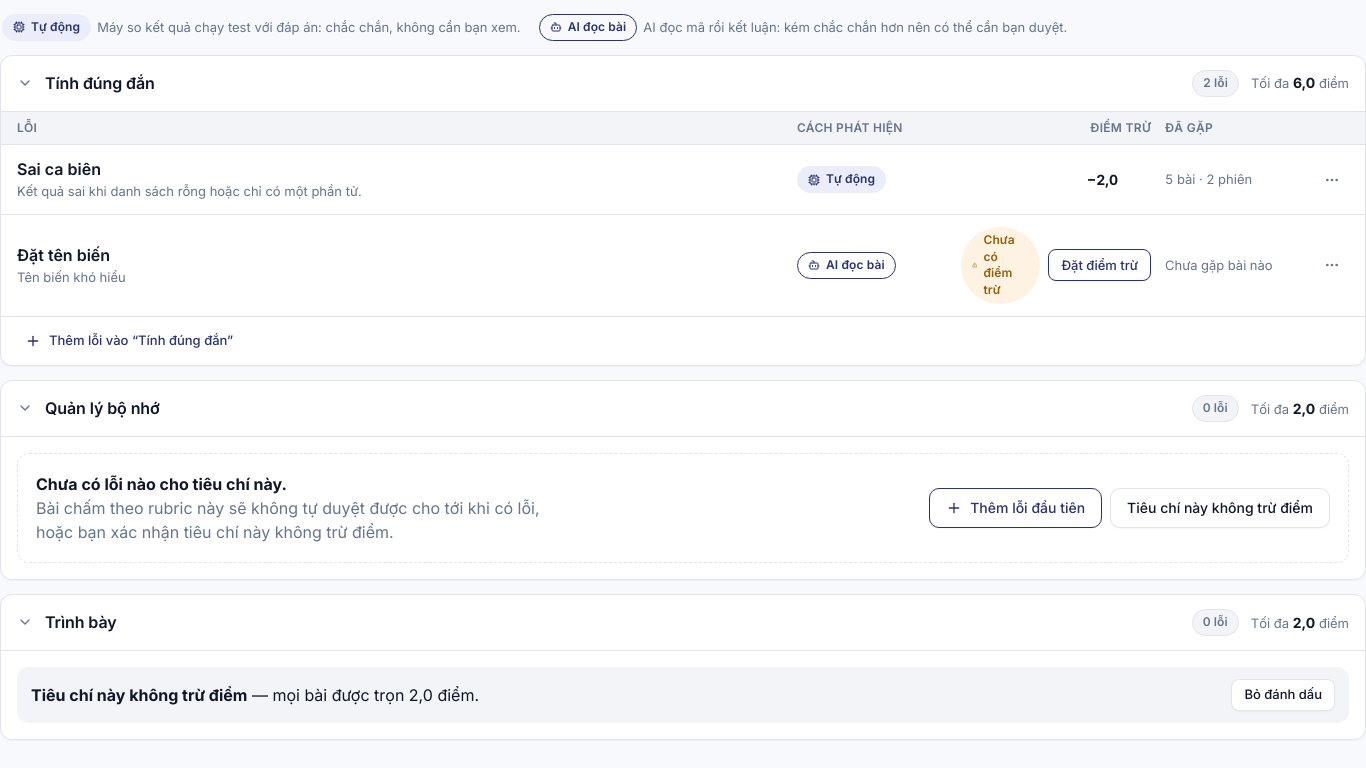
Scenario: ErrorsTab — nhóm theo tiêu chí (T-RBE-UI-2) › gập nhóm ẩn các dòng lỗi
Click the button "Tính đúng đắn 2 lỗi Tối đa 6,0 điểm" at (100, 83), box top-left (17, 70), bottom-right (1349, 97)
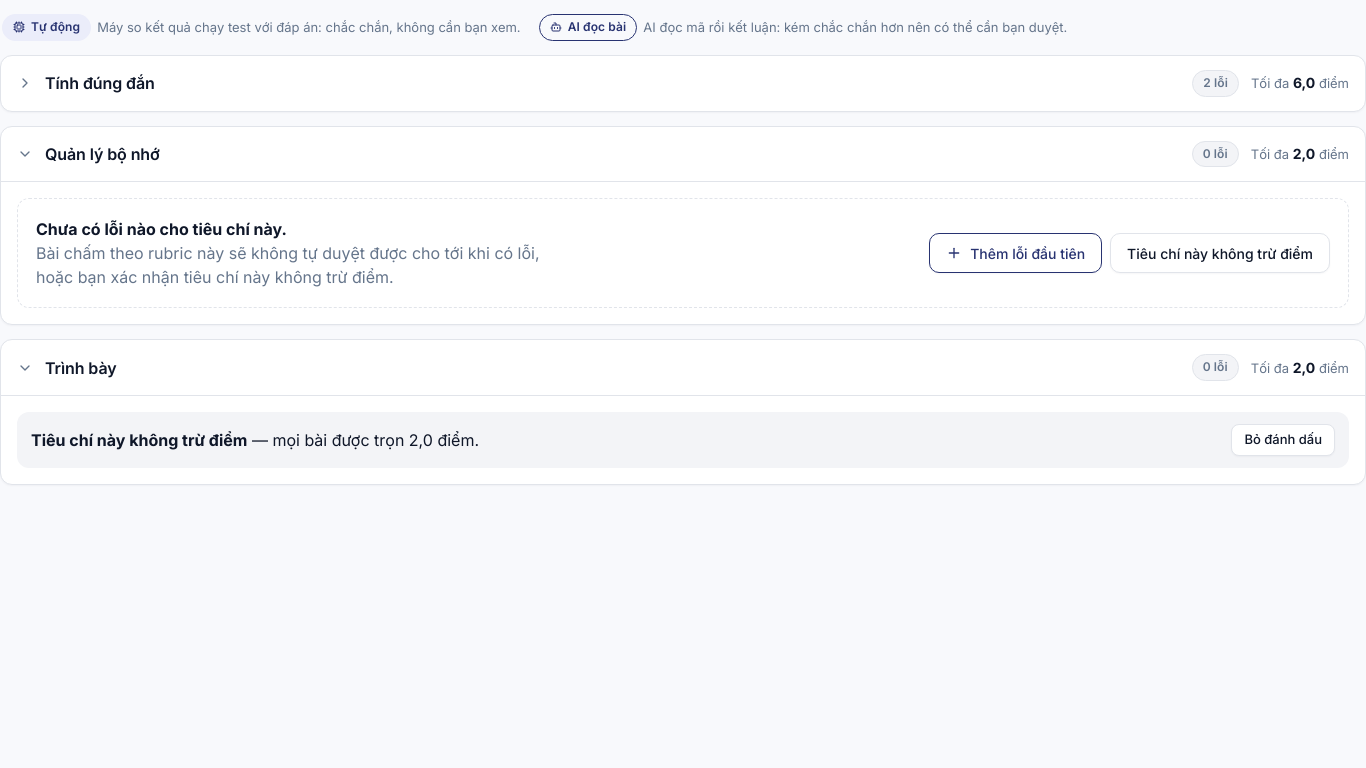
Result: the text "Sai ca biên" is gone
